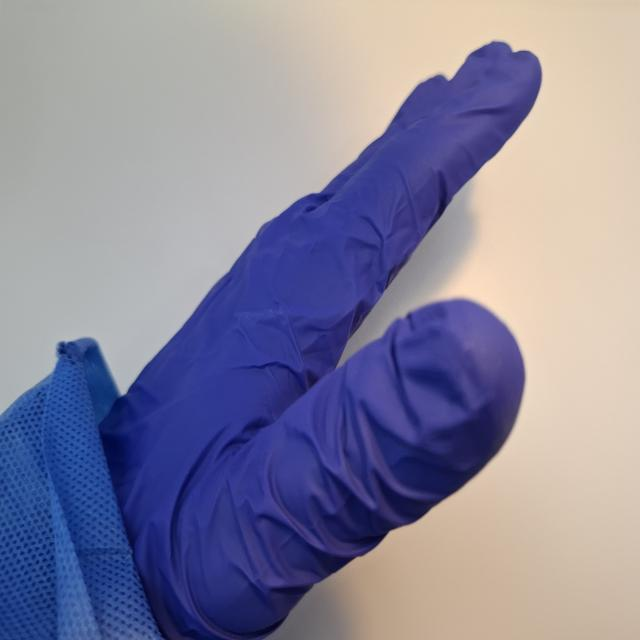glove_on: (81, 35, 547, 640)
